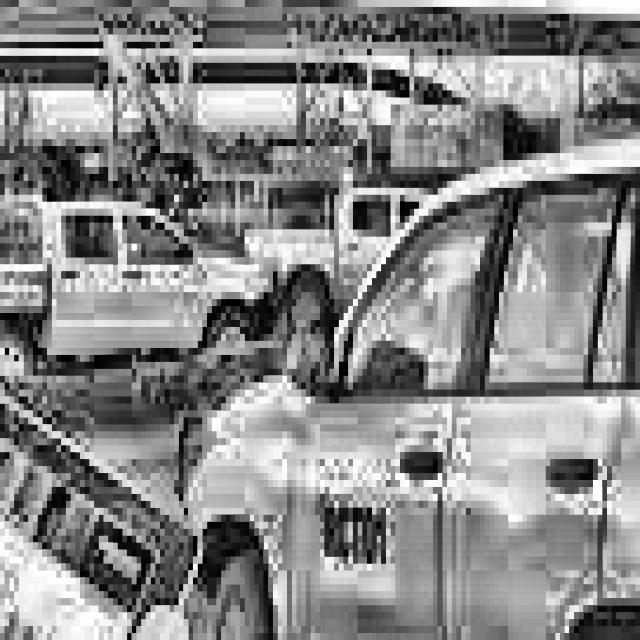light_vehicle: (136, 76, 639, 640)
